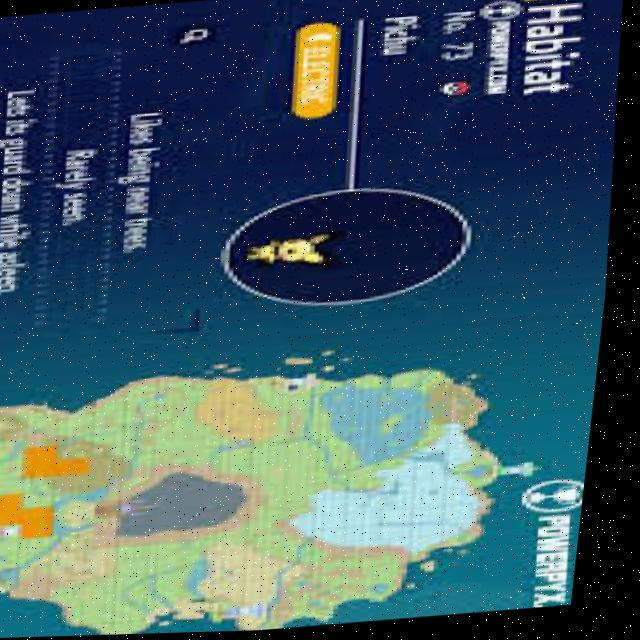pichu: (237, 232, 358, 277)
